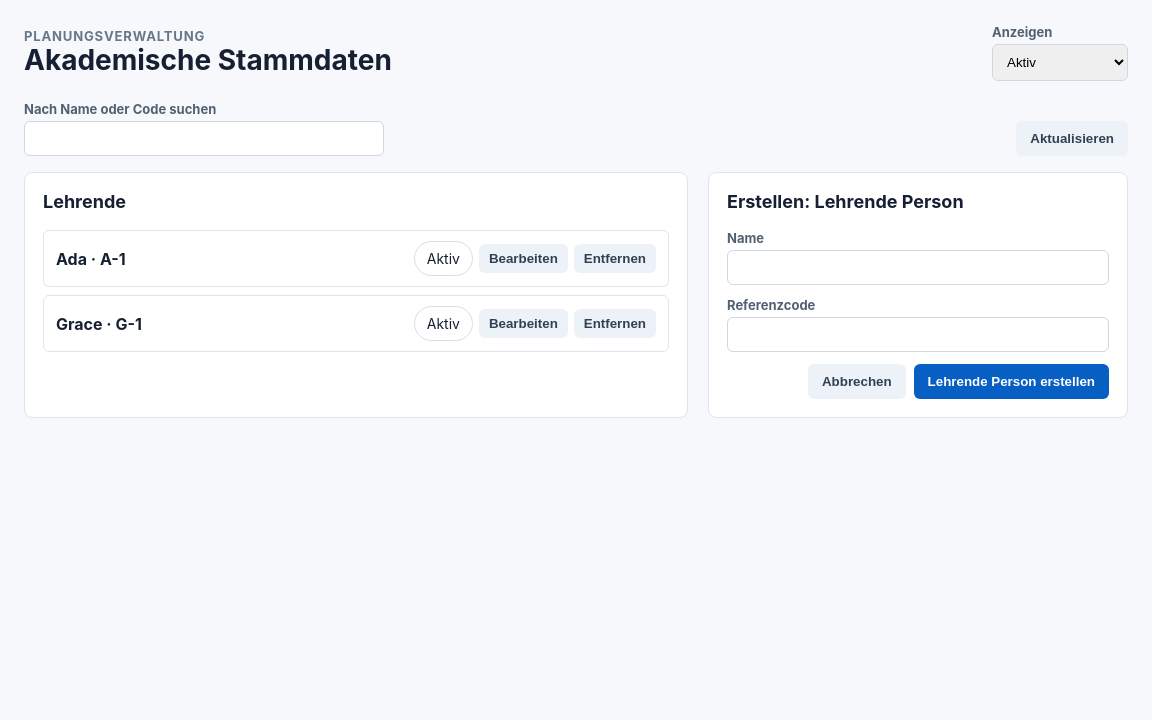
Test: AcademicDataPage › clears another resource availability when the new selection cannot be loaded
Step 1. Click the button "Bearbeiten" in the row of "Ada" → (523, 258), box left=479, top=244, right=568, bottom=273
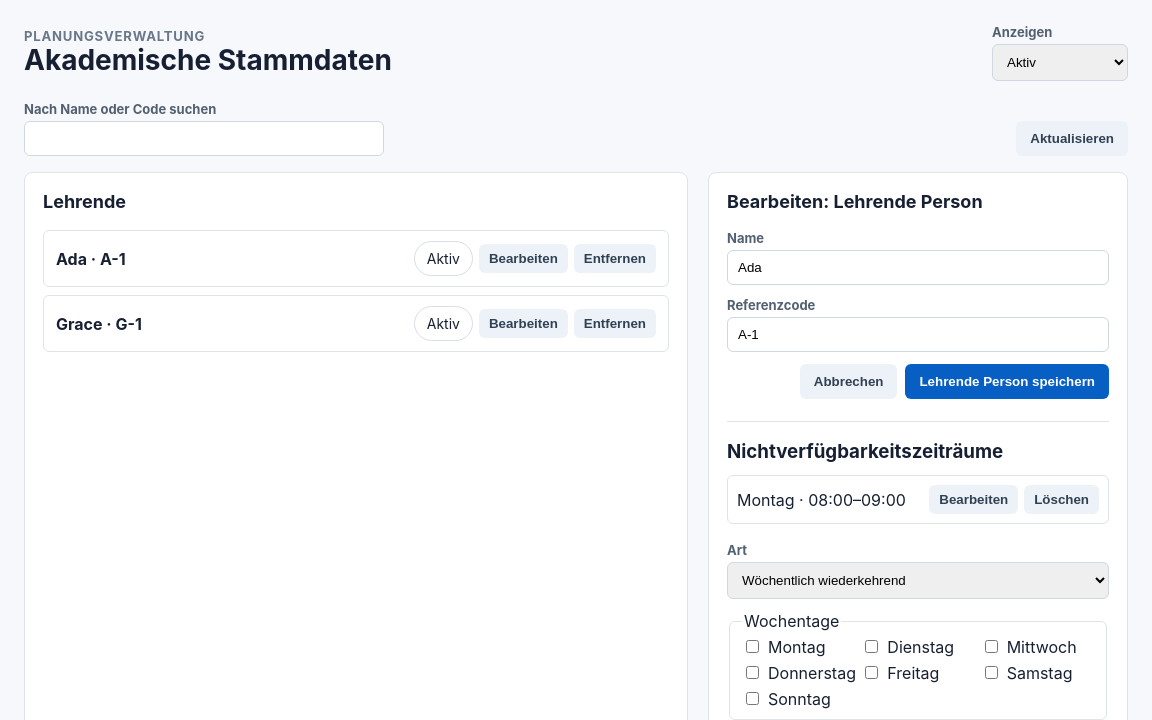
expect the text "Montag · 08:00–09:00" is shown: met, box left=737, top=490, right=906, bottom=510
Step 2. Click the button "Bearbeiten" in the row of "Grace" → (523, 324), box left=479, top=309, right=568, bottom=338
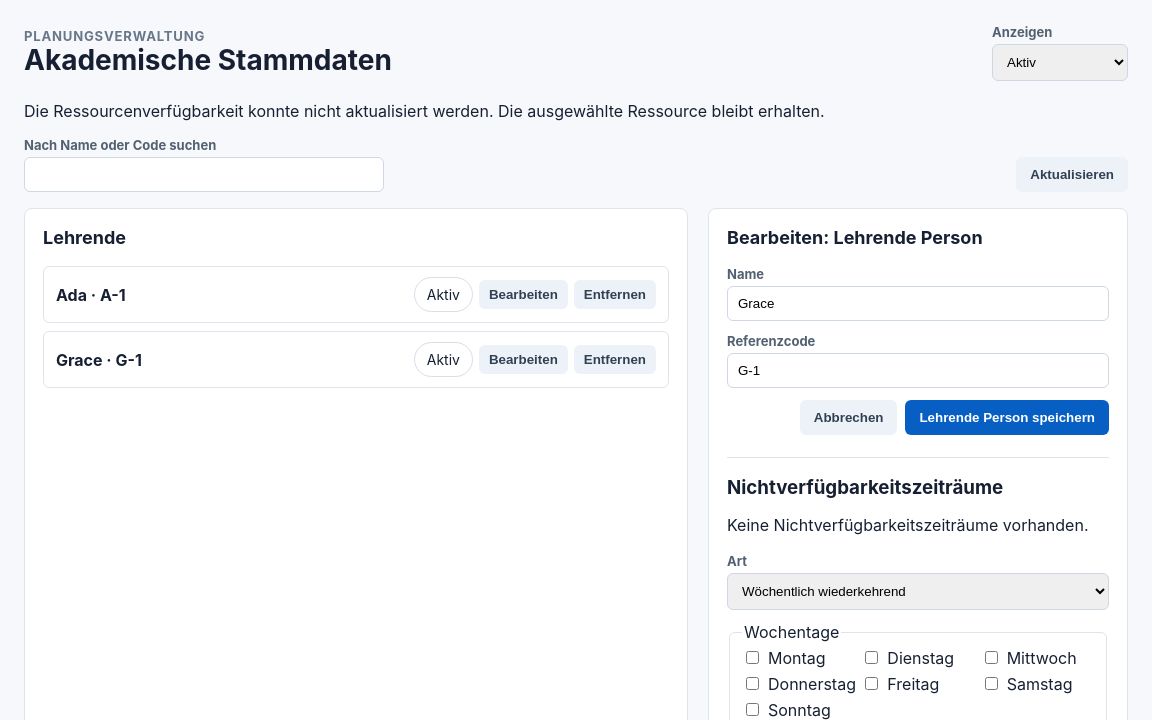
expect the text "Ressourcenverfügbarkeit konnte nicht aktualisiert werden" is shown: met, box left=24, top=101, right=825, bottom=121
expect the text "Montag · 08:00–09:00" is gone: met
